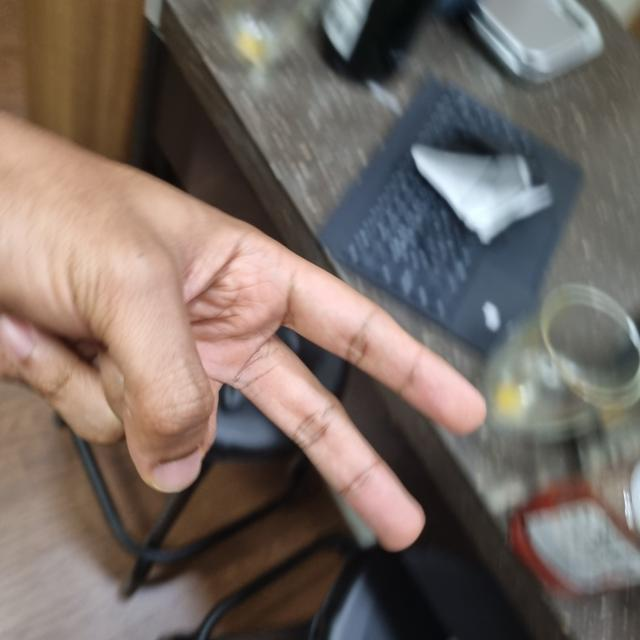Scissors: (108, 182, 479, 543)
